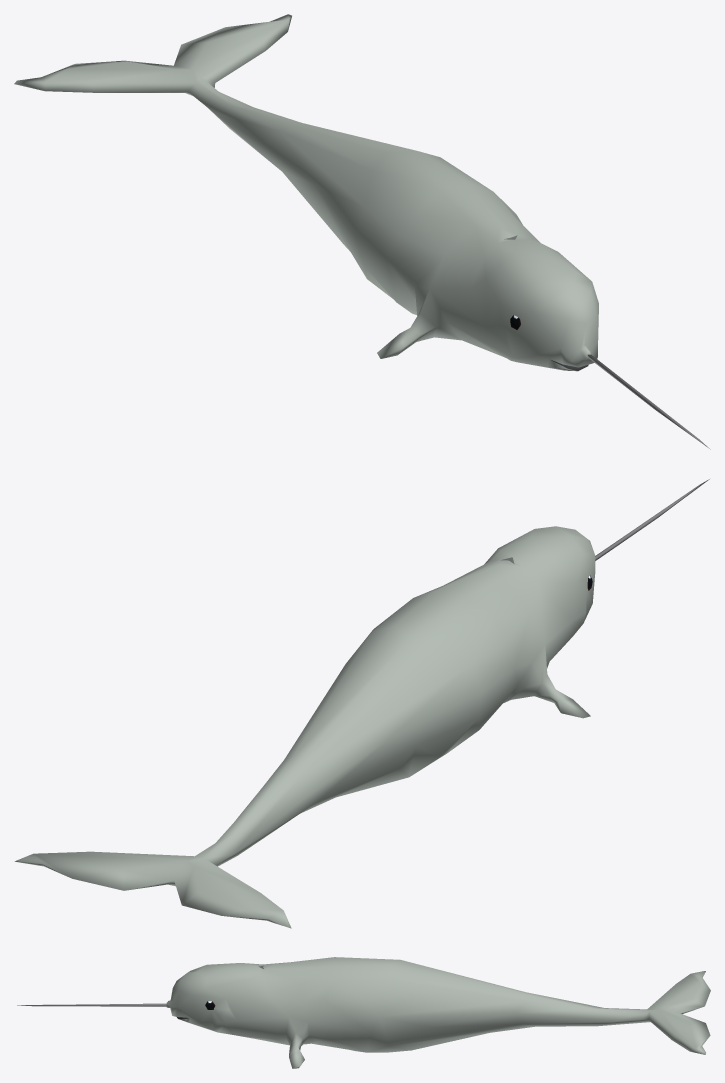
Rendered from Narwhal.glb.
3 renders of one model, top to bottom at view 1: azimuth 30°, elevation 25°; view 2: azimuth 150°, elevation 25°; view 3: azimuth 270°, elevation 25°, orthographic. The views are drawn at different scales.
Parts seen in each view (by area): view 1: Narwhal; view 2: Narwhal; view 3: Narwhal.
Boxes of the visible parts, left/top/right/bottom form: Narwhal: left=14, top=14, right=710, bottom=449; Narwhal: left=14, top=479, right=709, bottom=928; Narwhal: left=17, top=957, right=710, bottom=1068.
Size of what is drawn, in the model's own units: 1.11 by 0.5493 by 3.89.
Materials: 1 (1 with a texture image).
